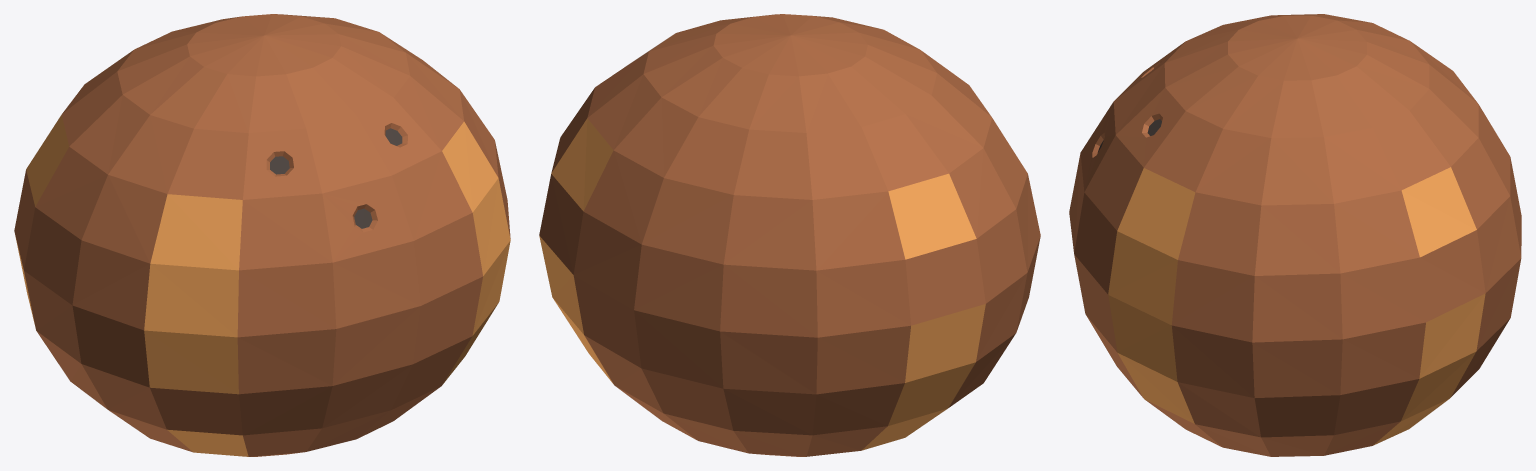
The model's file is coconut.glb.
3 views of the same model, side by side, from view 1: azimuth 30°, elevation 25°; view 2: azimuth 150°, elevation 25°; view 3: azimuth 270°, elevation 25° (orthographic).
Visible parts, largest first — view 1: coconut; view 2: coconut; view 3: coconut.
Boxes of the visible parts, bbox=[...] form: coconut: bbox=[14, 14, 510, 456]; coconut: bbox=[539, 14, 1040, 456]; coconut: bbox=[1069, 14, 1521, 456].
Size of the model in its own units: 0.55 by 0.48 by 0.5.
1 material, 1 textured.
